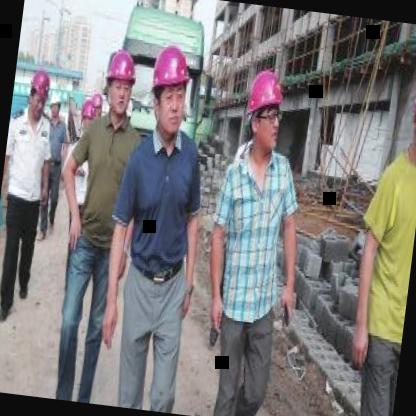helmet: (145, 40, 195, 138), (240, 65, 289, 153), (98, 44, 139, 122), (24, 63, 54, 120), (405, 55, 416, 172), (74, 94, 98, 134), (47, 88, 66, 124)
